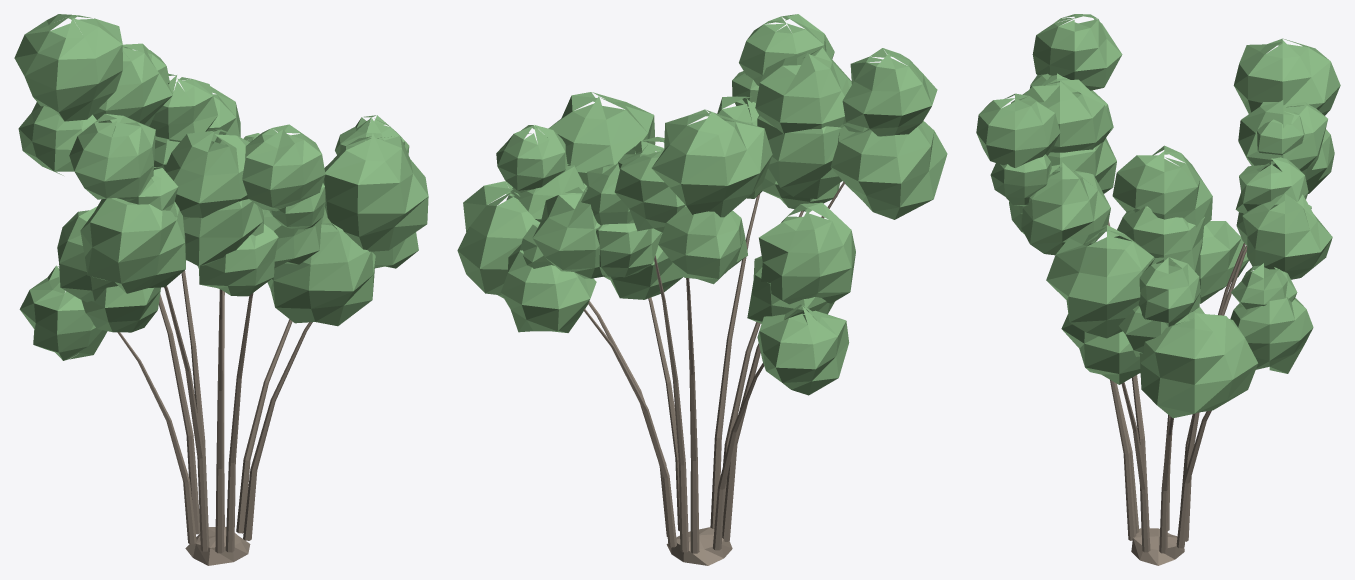
File: simplified.glb
The picture shows the model from 3 angles, left to right: view 1: azimuth 30°, elevation 25°; view 2: azimuth 150°, elevation 25°; view 3: azimuth 270°, elevation 25°; orthographic projection. The views are drawn at different scales.
Visible parts, largest first — view 1: hazel-coppice-stool; view 2: hazel-coppice-stool; view 3: hazel-coppice-stool.
Part boxes in pixels (x1,y1,x2,y2): hazel-coppice-stool: (14, 14, 428, 565); hazel-coppice-stool: (457, 14, 947, 565); hazel-coppice-stool: (976, 14, 1340, 565).
Bounding box in the file's own units: 6.9 × 8.28 × 5.74.
